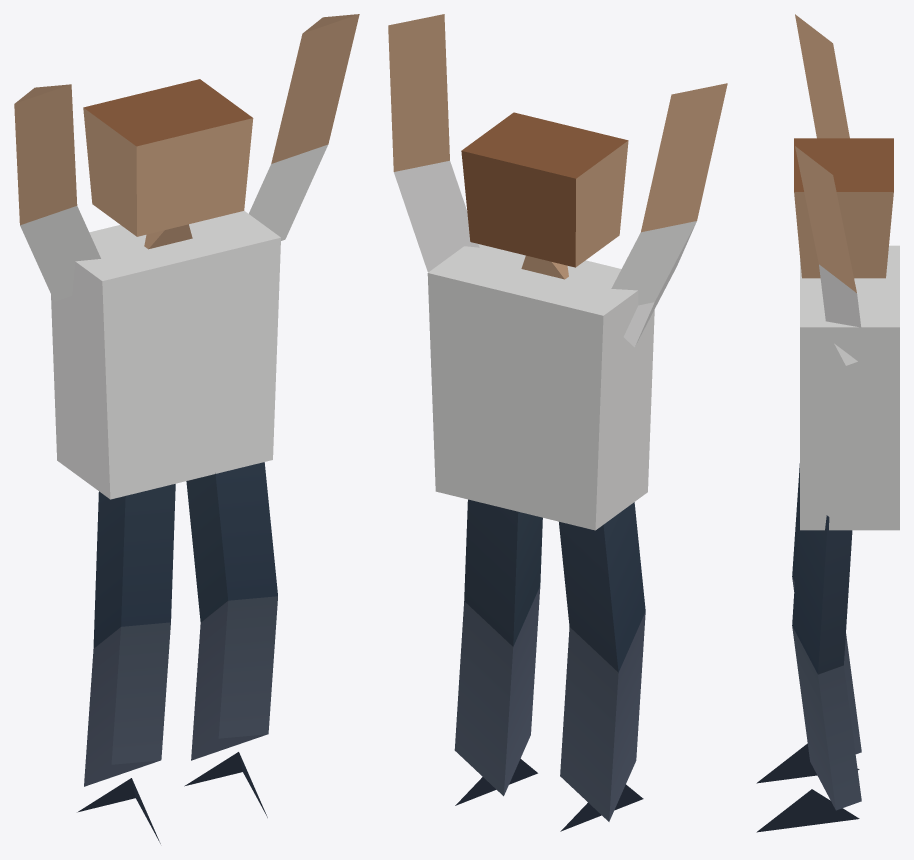
Rendered from fan-11.glb.
3 renders of one model, left to right at view 1: azimuth 30°, elevation 25°; view 2: azimuth 150°, elevation 25°; view 3: azimuth 270°, elevation 25°, orthographic. The views are drawn at different scales.
Parts seen in each view (by area): view 1: fan-11; view 2: fan-11; view 3: fan-11.
Boxes of the visible parts, box(x1,y1,x2,y2) form: fan-11: box(14, 14, 359, 843); fan-11: box(388, 14, 727, 831); fan-11: box(756, 14, 899, 832).
Bounding box in the file's own units: 0.9075 × 1.99 × 0.36.
